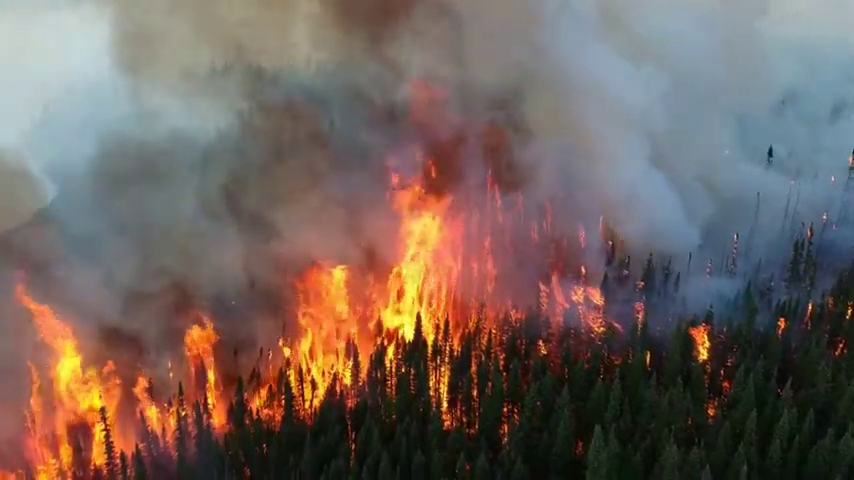forest_fire: (249, 144, 612, 420), (17, 279, 229, 476), (688, 323, 709, 361), (431, 368, 446, 408), (415, 83, 430, 111), (485, 129, 500, 152), (412, 113, 428, 122), (451, 138, 459, 144), (697, 341, 703, 348), (434, 138, 446, 141), (638, 306, 642, 314), (429, 105, 434, 110), (169, 371, 170, 375)
